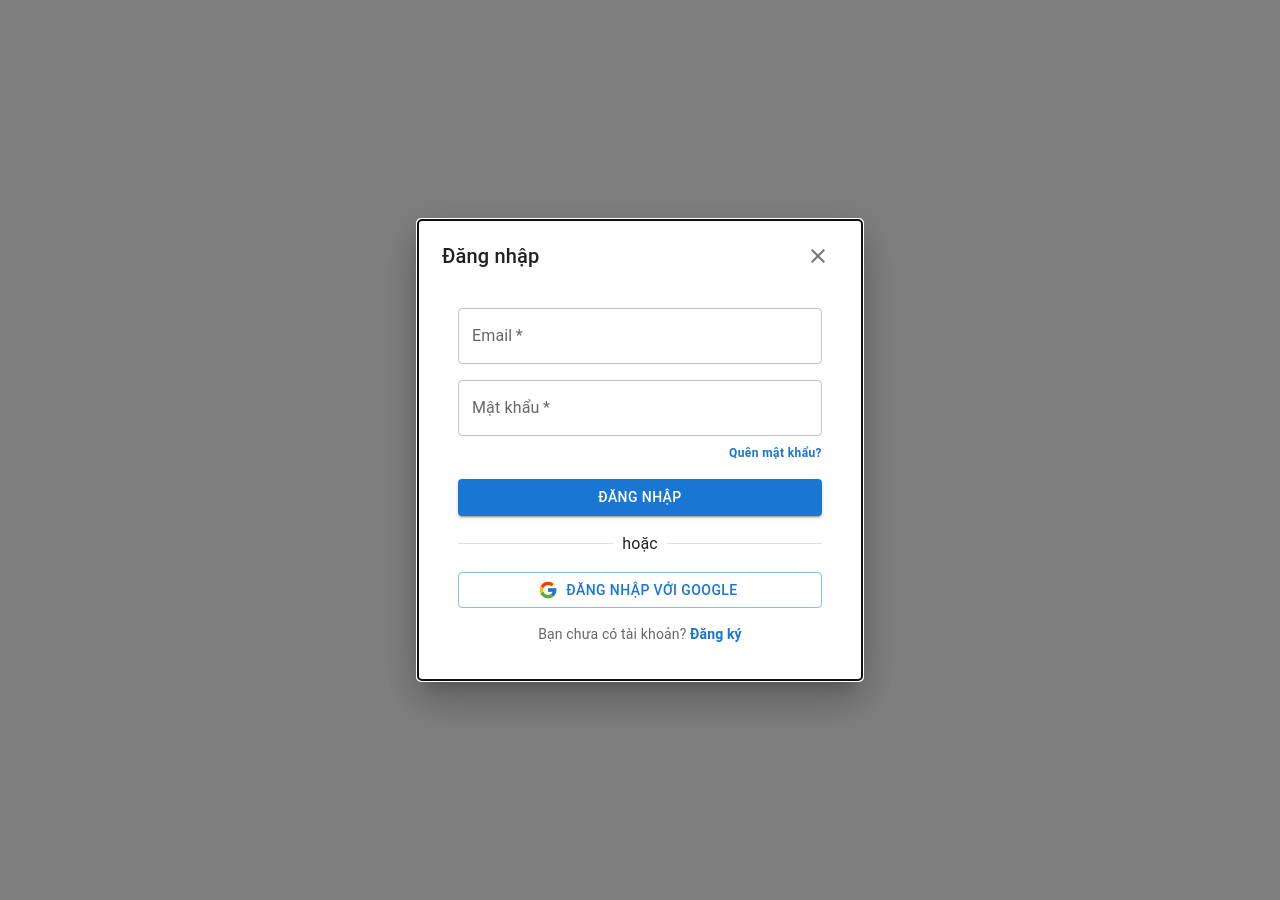
Test: AuthModal Component › Rendering & Navigation › switches to Register form when "Đăng ký" is clicked
Click the text "Đăng ký": (716, 634) [690, 626, 742, 642]
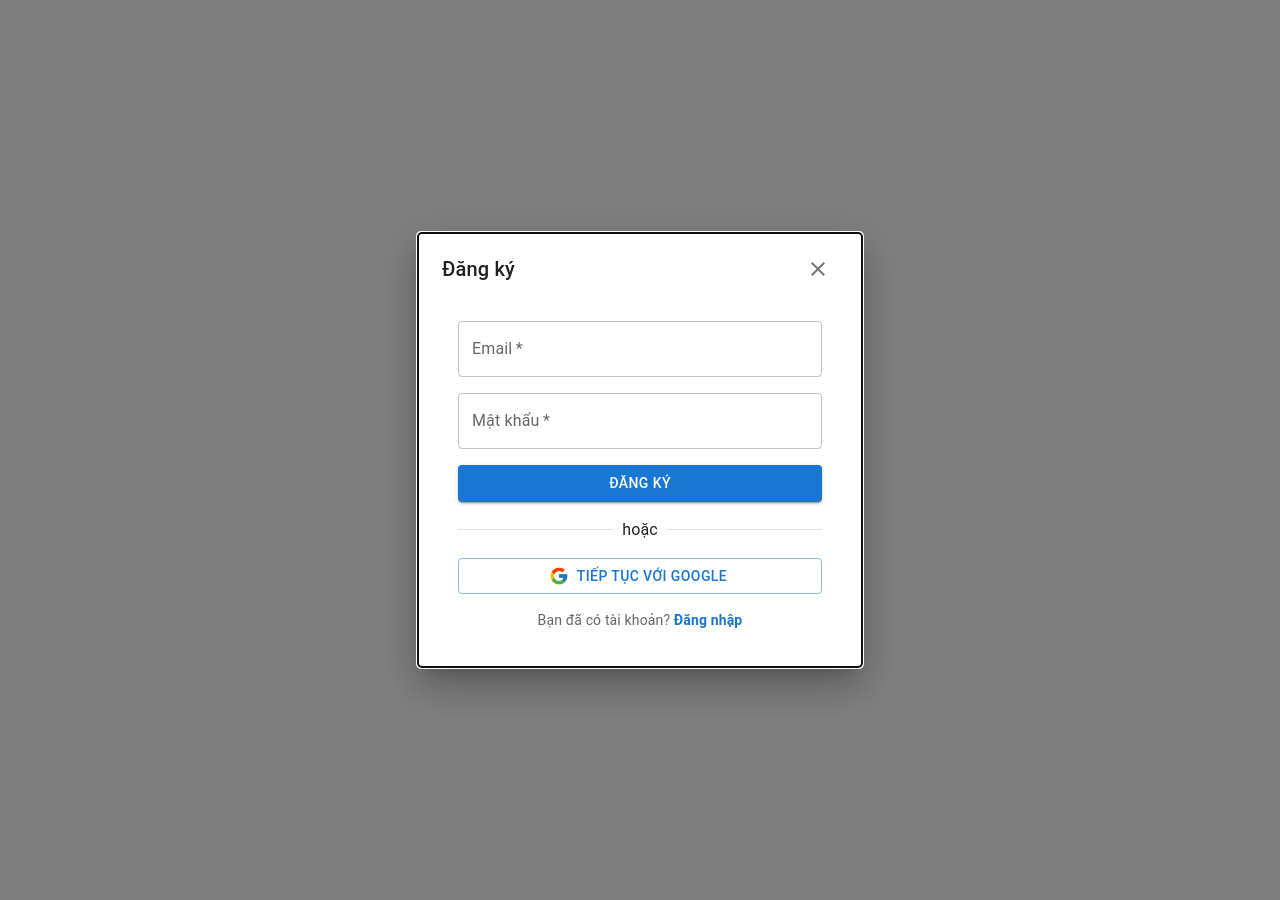
Now the heading "Đăng ký" is shown, box [442, 254, 515, 286]
